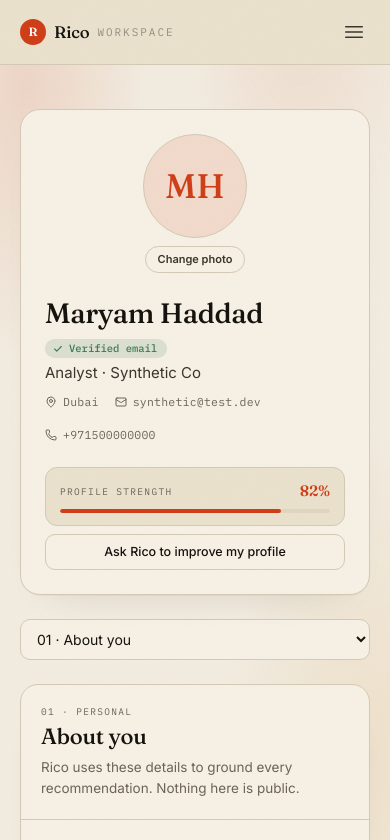
profile editorial — real-data rendering › never shows 'Free' while the subscription request is still loading
Check: the heading "Maryam Haddad" is shown, box left=45, top=296, right=263, bottom=329
Step 1. Select "08 · Billing" in the dropdown named "Sections" → (195,639), box left=20, top=619, right=370, bottom=660
(page scrolled)
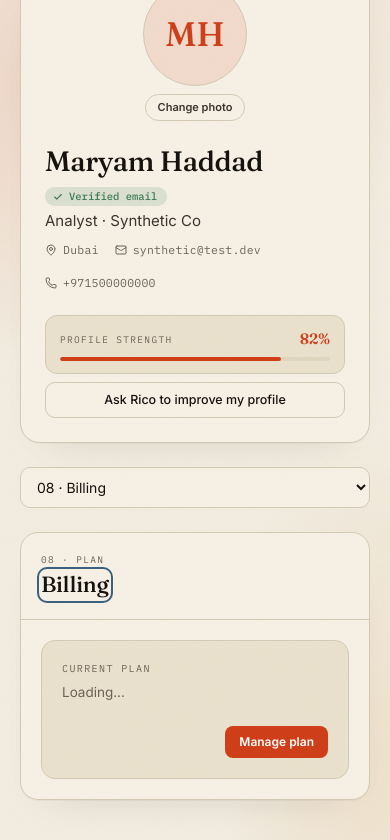
Check: the heading "Billing" is shown, box left=41, top=571, right=109, bottom=599
Check: the text "Loading..." is shown, box left=62, top=684, right=125, bottom=700
